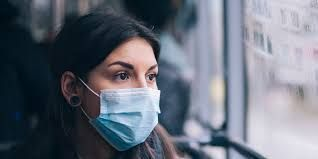with-mask: (66, 13, 176, 151)
